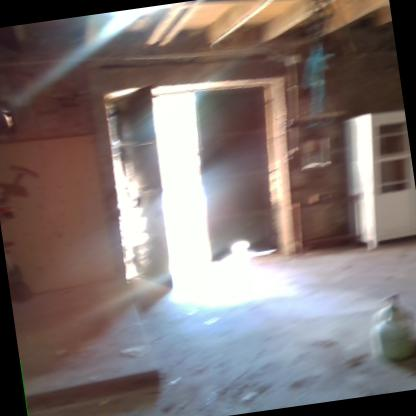semi: (80, 56, 314, 293)
